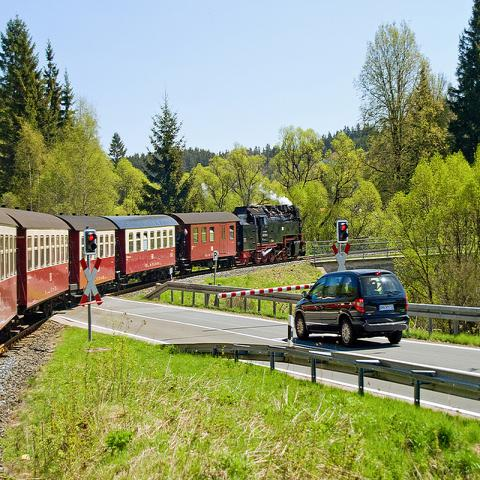car: (294, 268, 410, 350)
